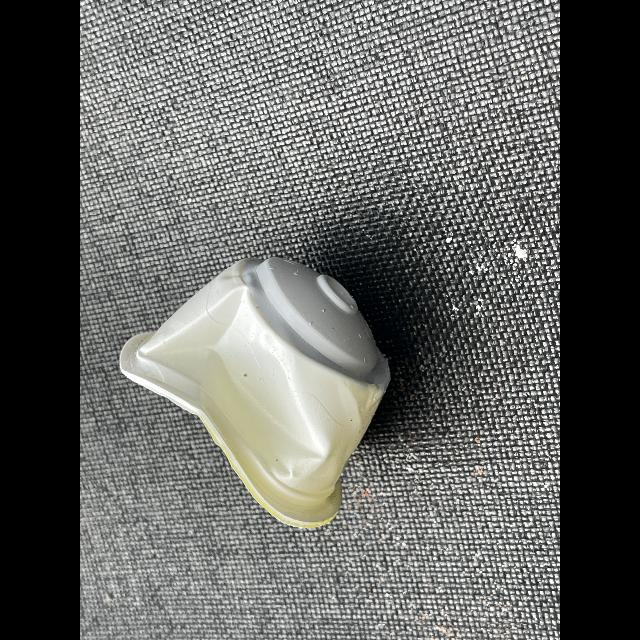damaged_capsule: (116, 242, 400, 538)
